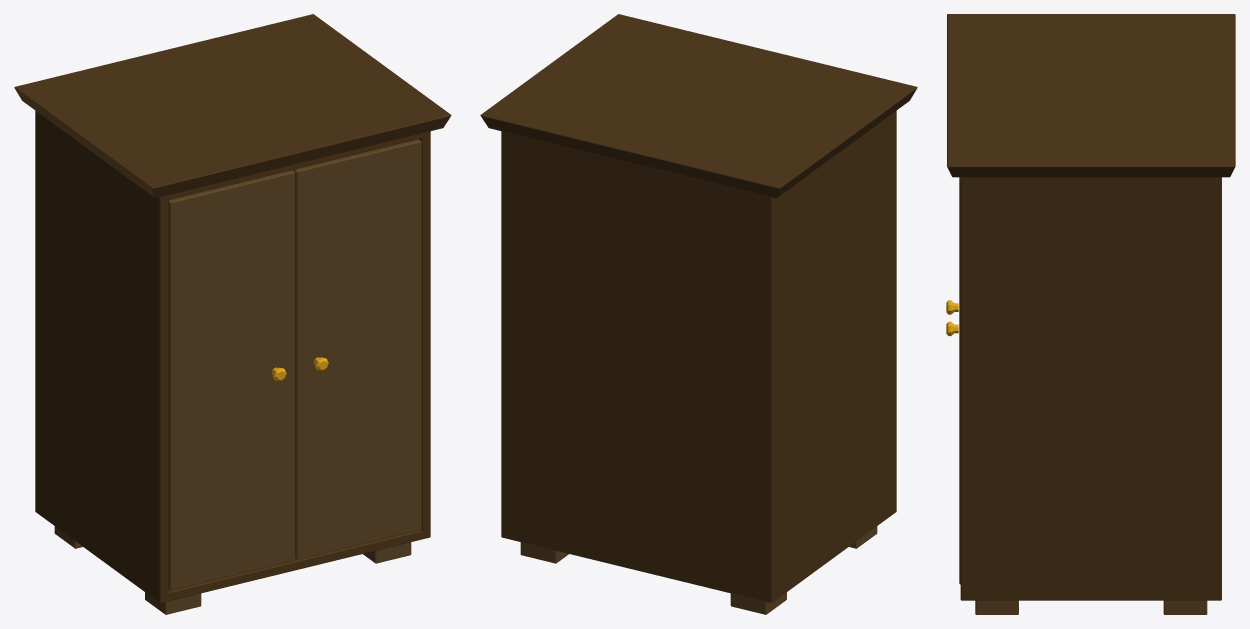
File: Armario da Camara.fbx
3 views of the same model, side by side, from view 1: azimuth 30°, elevation 25°; view 2: azimuth 150°, elevation 25°; view 3: azimuth 270°, elevation 25° (orthographic). The views are drawn at different scales.
Parts seen in each view (by area): view 1: Armario, Portas, Portas.001, Pes.001; view 2: Armario, Pes.001; view 3: Armario, Pes.001, Portas.001.
Part boxes in pixels (bbox=[...]): Armario: bbox=[14, 14, 451, 603]; Portas: bbox=[168, 170, 295, 590]; Portas.001: bbox=[293, 139, 421, 559]; Pes.001: bbox=[54, 526, 411, 614]; Armario: bbox=[480, 14, 917, 603]; Pes.001: bbox=[520, 526, 877, 614]; Armario: bbox=[947, 14, 1235, 600]; Pes.001: bbox=[975, 600, 1207, 614]; Portas.001: bbox=[959, 177, 960, 584].
Bounding box in the file's own units: 82.91 × 117 × 66.46.
